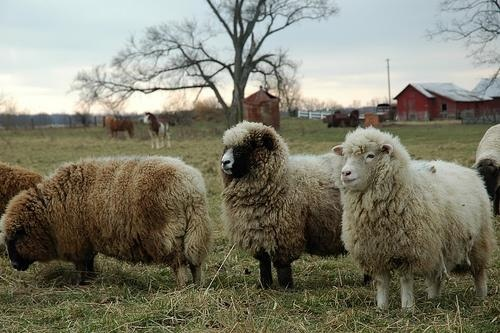horse: (143, 113, 180, 154), (104, 113, 138, 146)
sheep: (334, 128, 494, 313), (6, 156, 215, 293), (218, 121, 348, 291), (476, 123, 500, 217)
